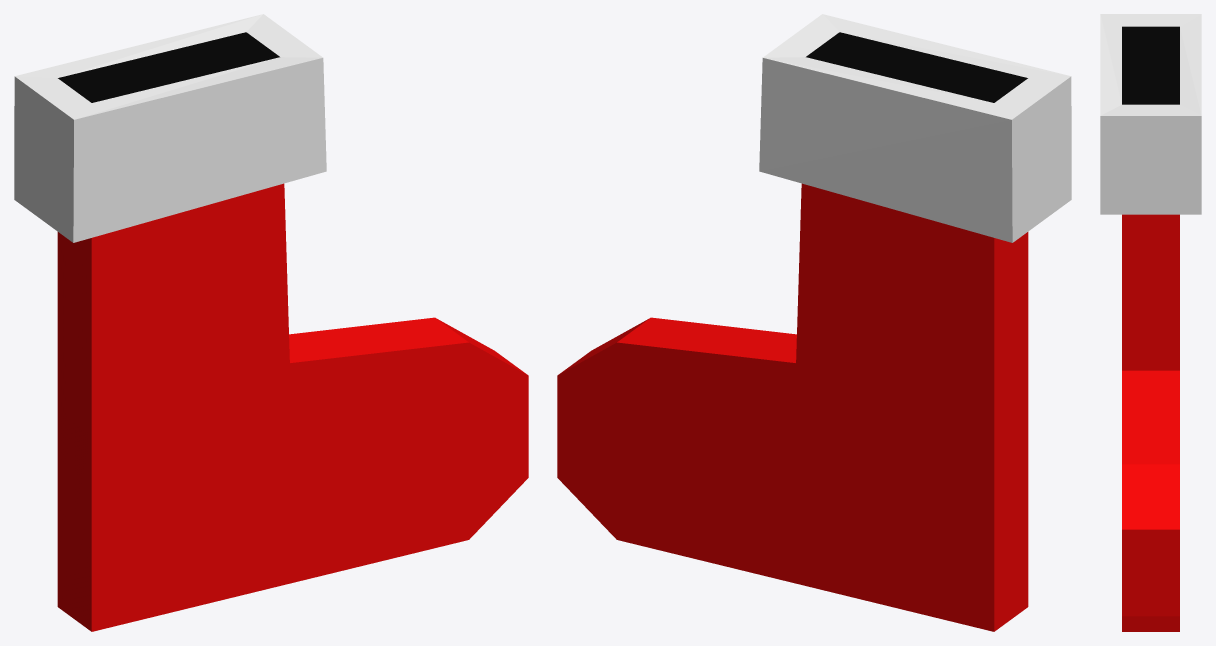
Rendered from stocking.FBX.
The picture shows the model from 3 angles, left to right: view 1: azimuth 30°, elevation 25°; view 2: azimuth 150°, elevation 25°; view 3: azimuth 270°, elevation 25°; orthographic projection. The views are drawn at different scales.
Visible parts, largest first — view 1: stocking; view 2: stocking; view 3: stocking.
Part boxes in pixels (bbox=[...]): stocking: bbox=[14, 14, 528, 631]; stocking: bbox=[557, 14, 1071, 631]; stocking: bbox=[1100, 14, 1201, 631].
Bounding box in the file's own units: 9.76 × 10.57 × 2.16.
